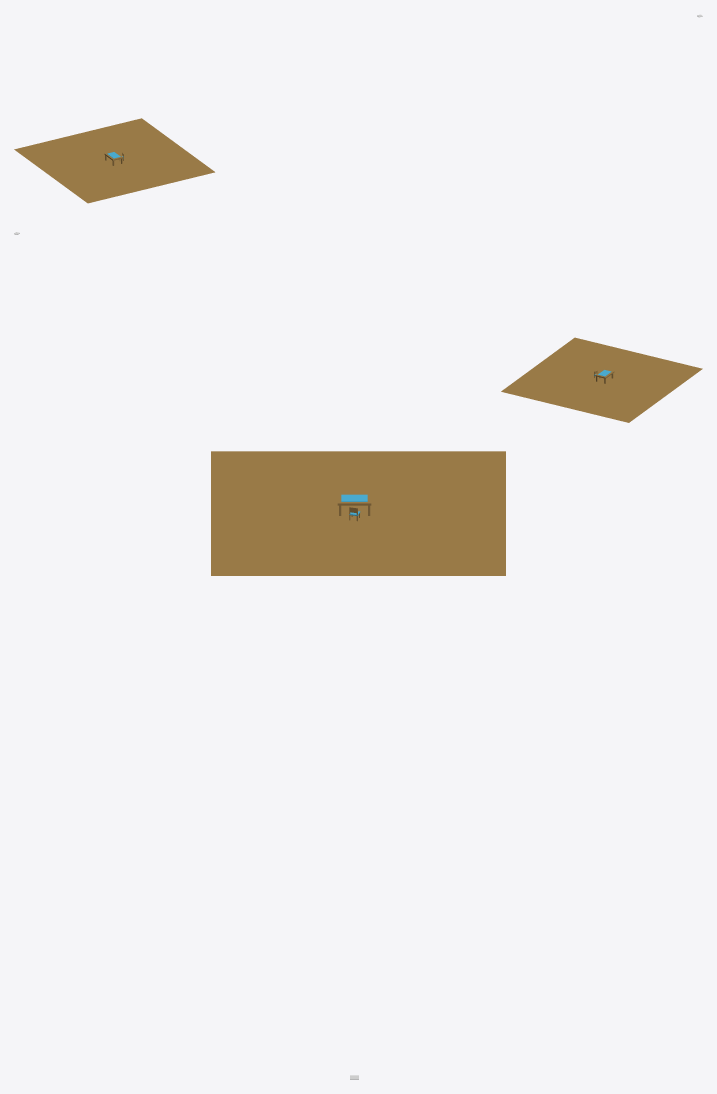
The model's file is table20250815.glb.
3 views of the same model, one above another, from view 1: azimuth 30°, elevation 25°; view 2: azimuth 150°, elevation 25°; view 3: azimuth 270°, elevation 25° (orthographic). The views are drawn at different scales.
Visible parts, largest first — view 1: Plane; view 2: Plane; view 3: Plane.
Part boxes in pixels (x1,y1,x2,y2): Plane: (14, 118, 214, 203); Plane: (501, 337, 702, 422); Plane: (211, 451, 505, 575).
Size of the model in its own units: 101 by 1.02 by 19.89.
